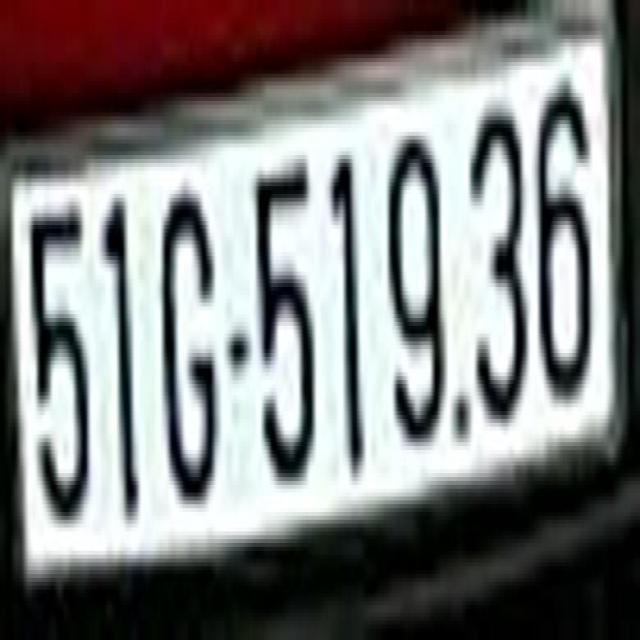1: (325, 144, 367, 504), (101, 190, 137, 512)
3: (467, 104, 526, 430)
5: (253, 140, 316, 497), (26, 202, 90, 524)
6: (538, 78, 589, 392)
9: (386, 120, 447, 454)
G: (158, 167, 220, 520)
